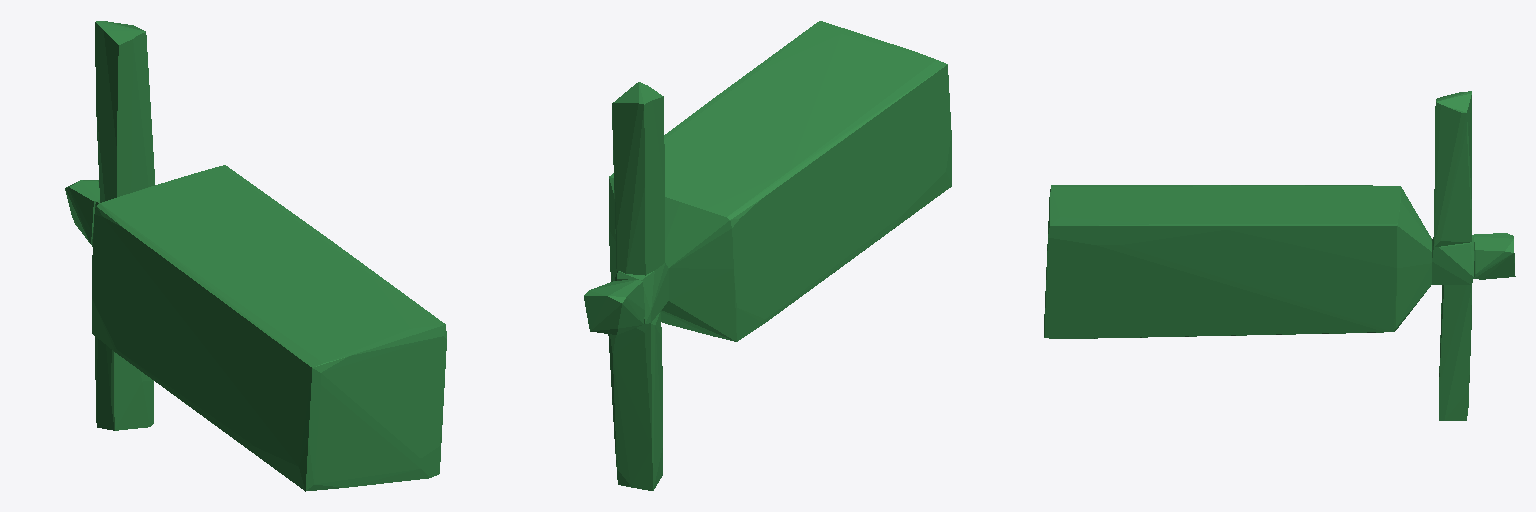
The robot description file, URDF, robot "blob337":
<robot name="blob337">
  <link name="random_obj_337">
    <contact>
      <lateral_friction value="1.0"/>
      <rolling_friction value="0.0"/>
      <inertia_scaling value="3.0"/>
      <contact_cfm value="0.0"/>
      <contact_erp value="1.0"/>
    </contact>
    <inertial>
      <origin rpy="0 0 0" xyz="0 0 0"/>
      <mass value="0.1"/>
      <inertia ixx="1" ixy="0" ixz="0" iyy="1" iyz="0" izz="0"/>
    </inertial>
    <visual>
      <origin rpy="0 0 0" xyz="0 0 0"/>
      <geometry>
        <mesh filename="337.obj" scale="0.015 0.015 0.015"/>
      </geometry>
      <material name="blockmat">
        <color rgba="0.27 0.58 0.34 1"/>
      </material>
    </visual>
    <collision>
      <origin rpy="0 0 0" xyz="0 0 0"/>
      <geometry>
        <mesh filename="337.obj" scale="0.015 0.015 0.015"/>
      </geometry>
    </collision>
  </link>
</robot>

--- What the picture shows (computed from the rendered views, not written in the file) ---
The picture shows the robot from 3 angles, left to right: view 1: azimuth 30°, elevation 25°; view 2: azimuth 150°, elevation 25°; view 3: azimuth 270°, elevation 25°; orthographic projection.
Robot: blob337 — 1 links, 0 joints (none); root link random_obj_337; default pose: every joint at zero.
Links seen in each view (by area): view 1: random_obj_337; view 2: random_obj_337; view 3: random_obj_337.
Boxes of the visible links, x1,y1,x2,y2 form: random_obj_337: (65,21,446,491); random_obj_337: (584,21,951,490); random_obj_337: (1044,91,1515,420).
Size in the robot's own frame: 0.0331 by 0.1228 by 0.0916 metres.
1 mesh visuals loaded from 1 distinct referenced files (1 OBJ).